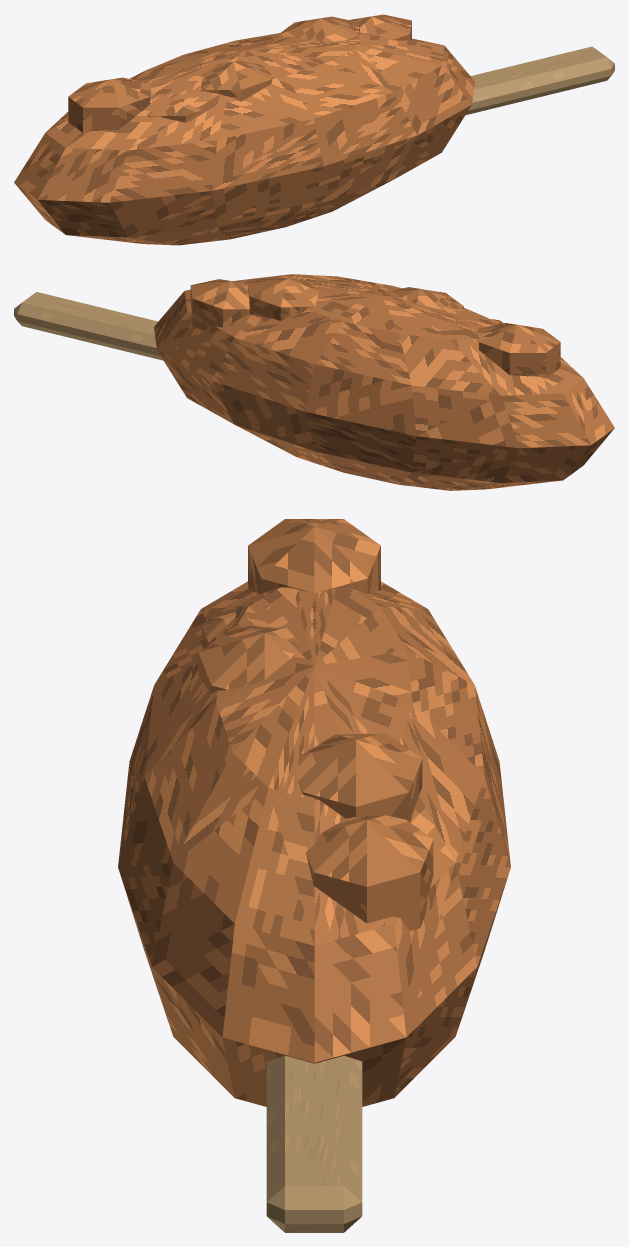
Rendered from corndogs_homemade.glb.
The picture shows the model from 3 angles, top to bottom: view 1: azimuth 30°, elevation 25°; view 2: azimuth 150°, elevation 25°; view 3: azimuth 270°, elevation 25°; orthographic projection. The views are drawn at different scales.
Parts seen in each view (by area): view 1: block_oval battered sausage, block_irregular fried batter bulbs (×5), block_flat wood stick; view 2: block_oval battered sausage, block_irregular fried batter bulbs (×4), block_flat wood stick; view 3: block_oval battered sausage, block_irregular fried batter bulbs (×4), block_flat wood stick.
Boxes of the visible parts, box(x1,y1,x2,y2) form: block_oval battered sausage: box(14, 32, 474, 245); block_irregular fried batter bulbs (×5): box(68, 14, 411, 132); block_flat wood stick: box(465, 46, 614, 115); block_oval battered sausage: box(154, 274, 614, 490); block_irregular fried batter bulbs (×4): box(190, 277, 560, 378); block_flat wood stick: box(14, 292, 163, 360); block_oval battered sausage: box(118, 581, 510, 1106); block_irregular fried batter bulbs (×4): box(198, 519, 433, 930); block_flat wood stick: box(266, 1055, 362, 1232).
Bounding box in the file's own units: 0.175 × 0.0512 × 0.0512.
Materials: 1 (1 with a texture image).
